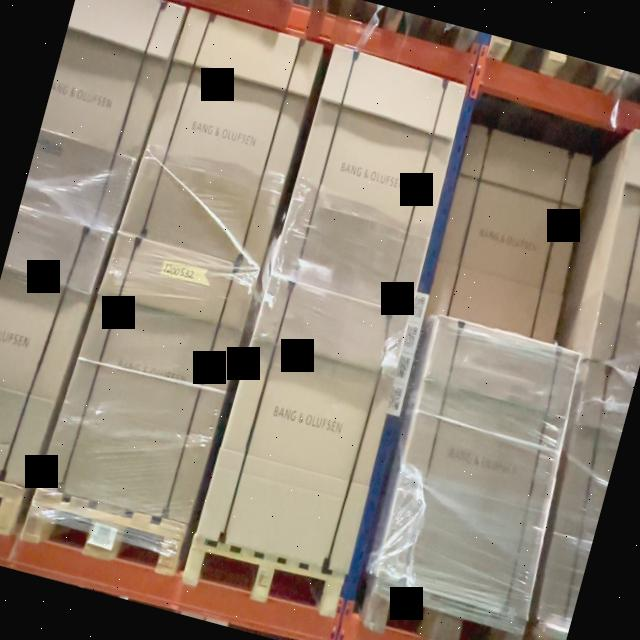box: (370, 318, 582, 616), (202, 285, 409, 574), (50, 236, 254, 524), (130, 10, 320, 272), (274, 46, 463, 306), (426, 131, 592, 339)
